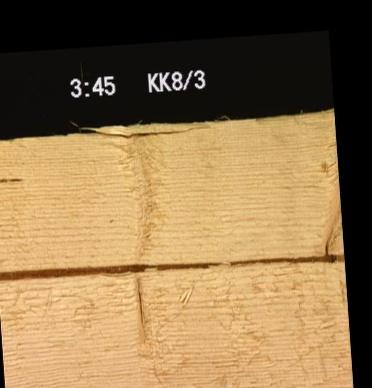split: (79, 120, 211, 138)
